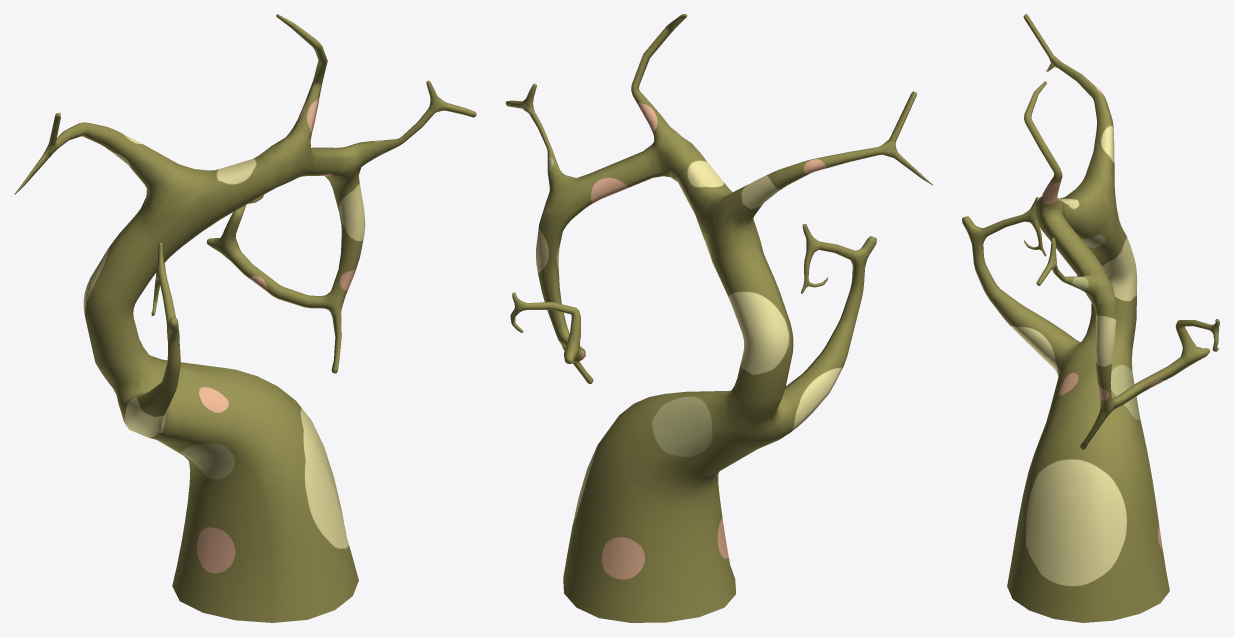
Rendered from Tree_Yellow.glb.
The picture shows the model from 3 angles, left to right: view 1: azimuth 30°, elevation 25°; view 2: azimuth 150°, elevation 25°; view 3: azimuth 270°, elevation 25°; orthographic projection. The views are drawn at different scales.
Visible parts, largest first — view 1: tree_02 01; view 2: tree_02 01; view 3: tree_02 01.
Part boxes in pixels (x1,y1,x2,y2): tree_02 01: (14,14,476,622); tree_02 01: (505,14,933,622); tree_02 01: (962,14,1219,622).
Bounding box in the file's own units: 0.2476 × 0.3056 × 0.1422.
1 material, 1 textured.
